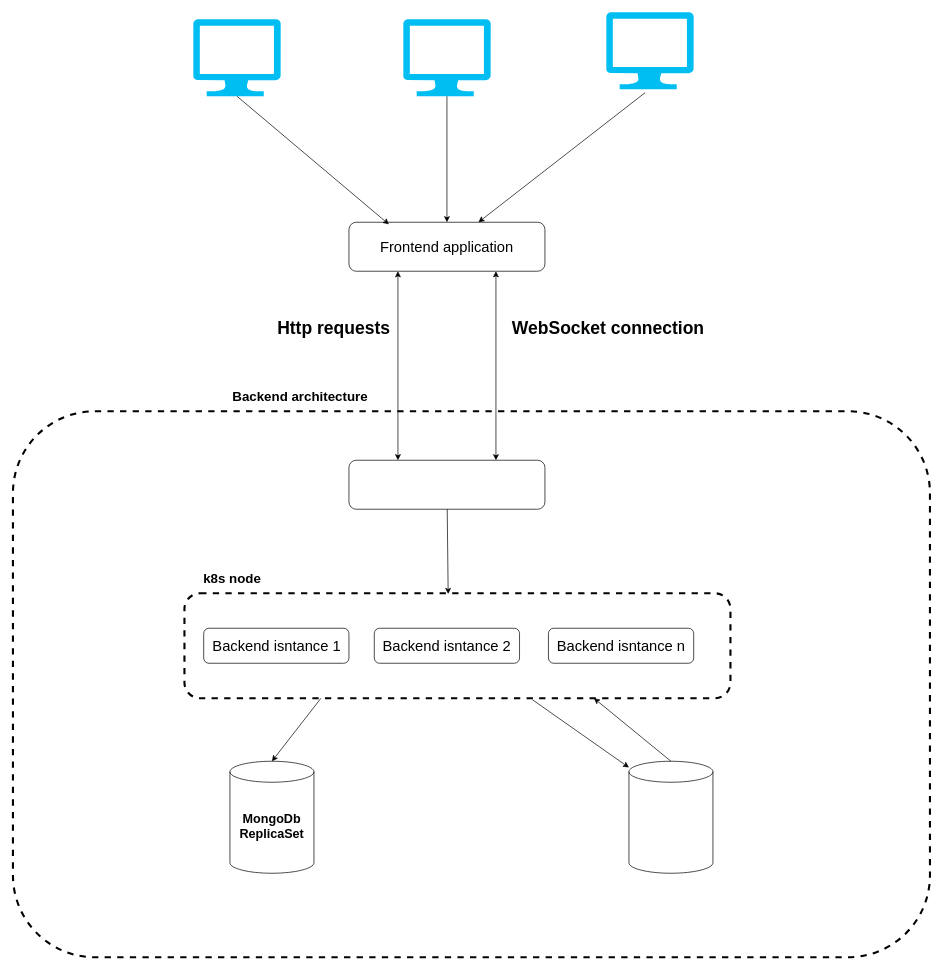
This 943x970 diagram has some shape labels left out. Here are the shapes that lost their labels. From the top down, the centre of each, then its label:
At point 446,484: "LoadBalancer".
At point 670,817: "Redis Pub/Sub".
